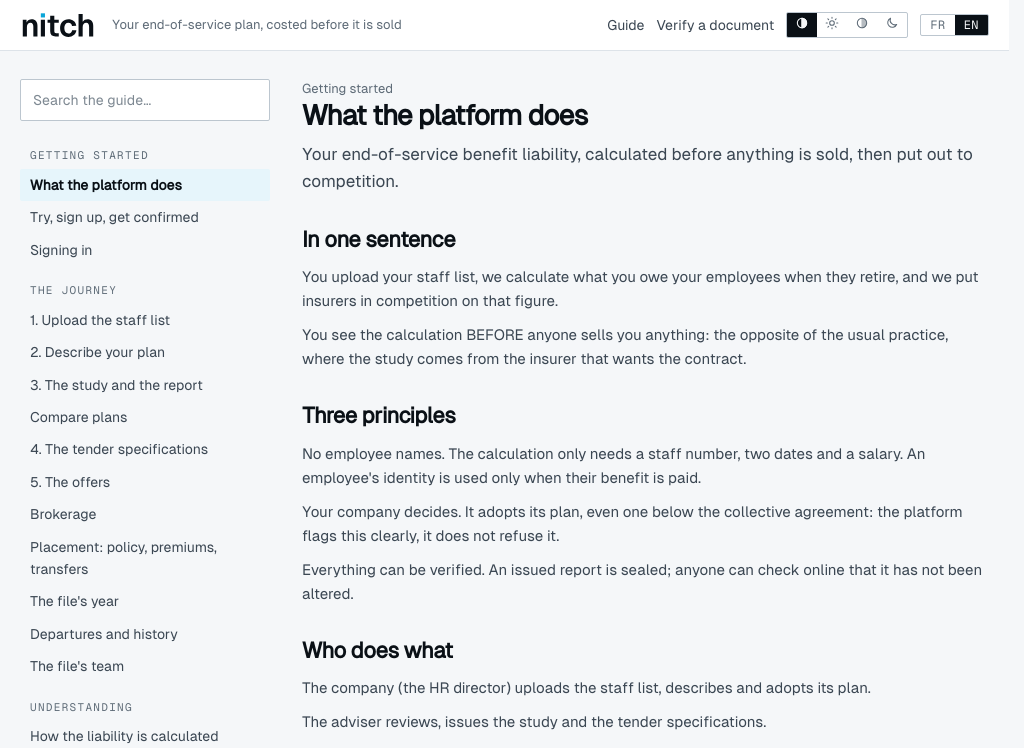
Test: the guide in English › the search reads the English text
The image size is (1024, 748).
Type "tender specifications" into the search field labelled "Search the guide".
click(145, 100); type("tender specifications")  # box [20, 79, 270, 122]
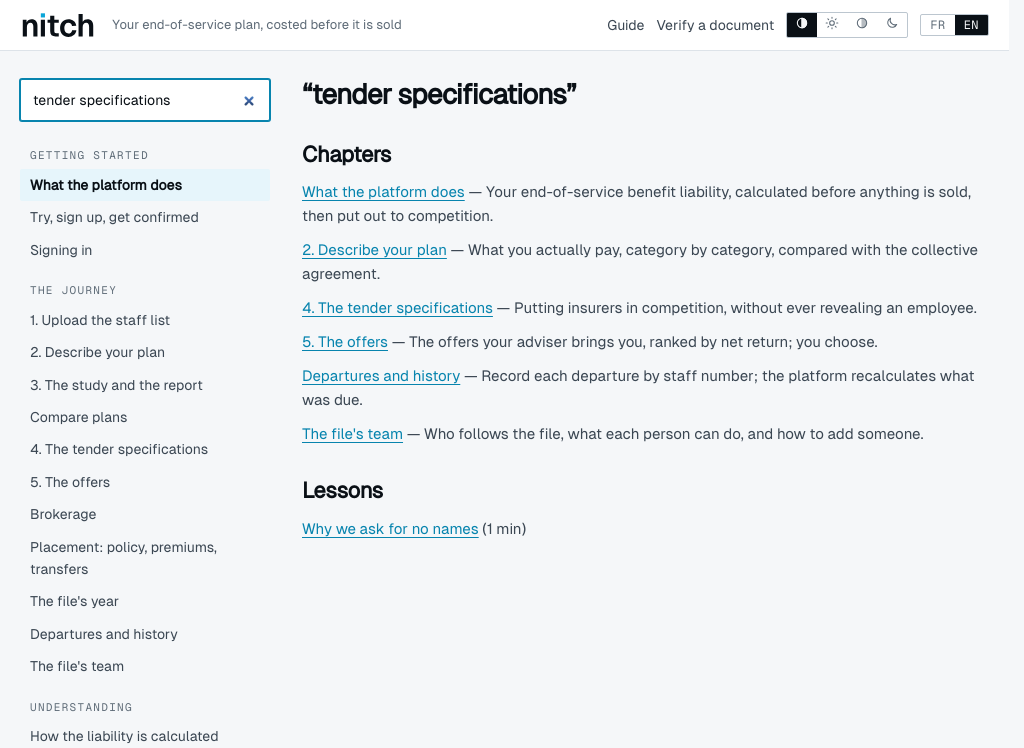
Now the heading "Chapters" is shown, box [302, 142, 391, 167]
Now the link "4. The tender specifications" below "Chapters" is shown, box [302, 299, 493, 316]
